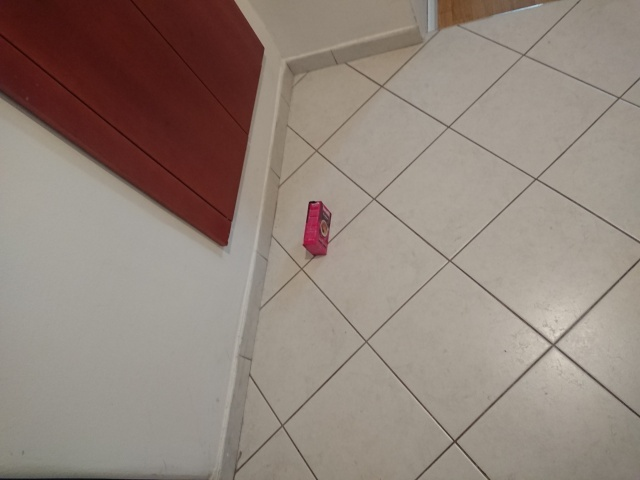Barcaffe Classic Original 225g: (301, 199, 334, 258)
